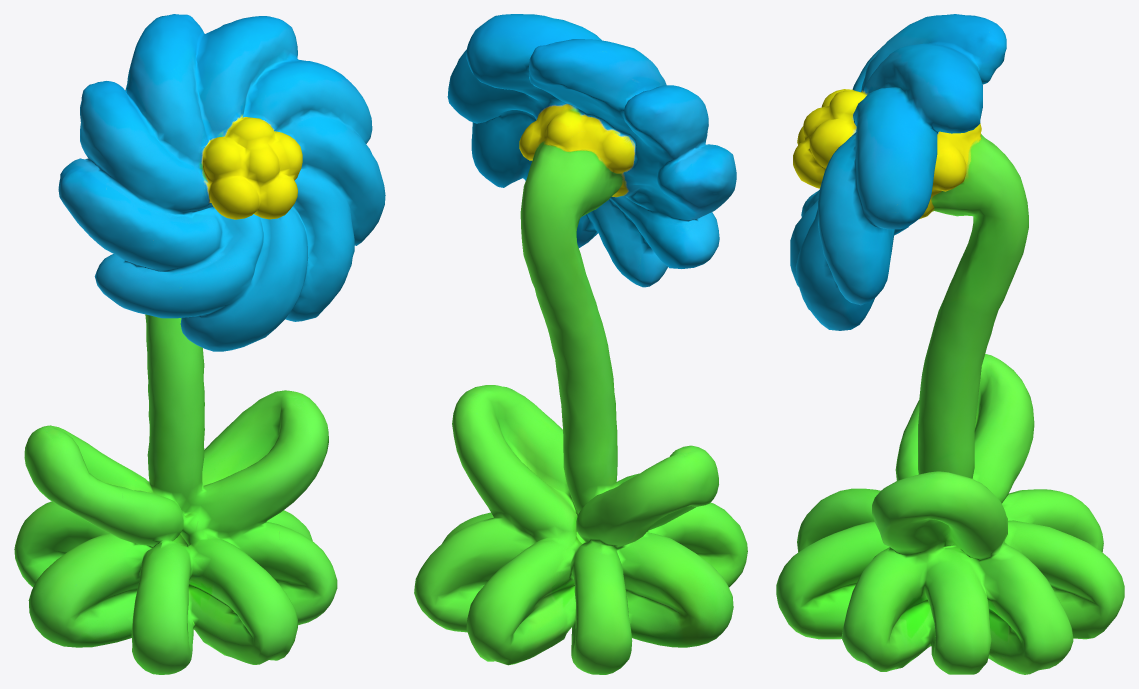
File: blue-flower-balloon-ani.glb
3 renders of one model, left to right at view 1: azimuth 30°, elevation 25°; view 2: azimuth 150°, elevation 25°; view 3: azimuth 270°, elevation 25°, orthographic. The views are drawn at different scales.
Visible parts, largest first — view 1: Mesh_0.001; view 2: Mesh_0.001; view 3: Mesh_0.001.
Part boxes in pixels (bbox=[...]): Mesh_0.001: bbox=[14, 14, 385, 674]; Mesh_0.001: bbox=[414, 14, 747, 674]; Mesh_0.001: bbox=[776, 14, 1124, 674].
Size of the model in its own units: 1.02 by 1.9 by 0.9824.
1 material, 1 textured.
